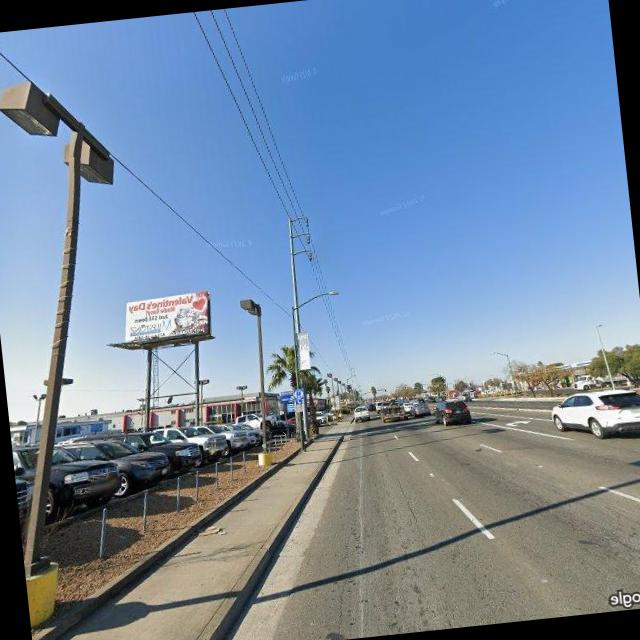crack: (396, 472, 422, 528)
